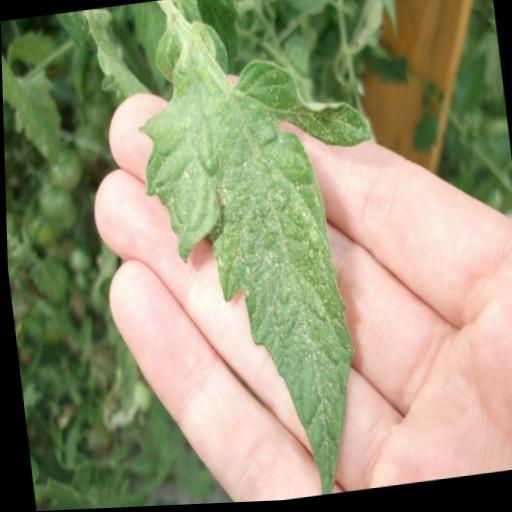Spider Mites: (129, 23, 413, 508)
